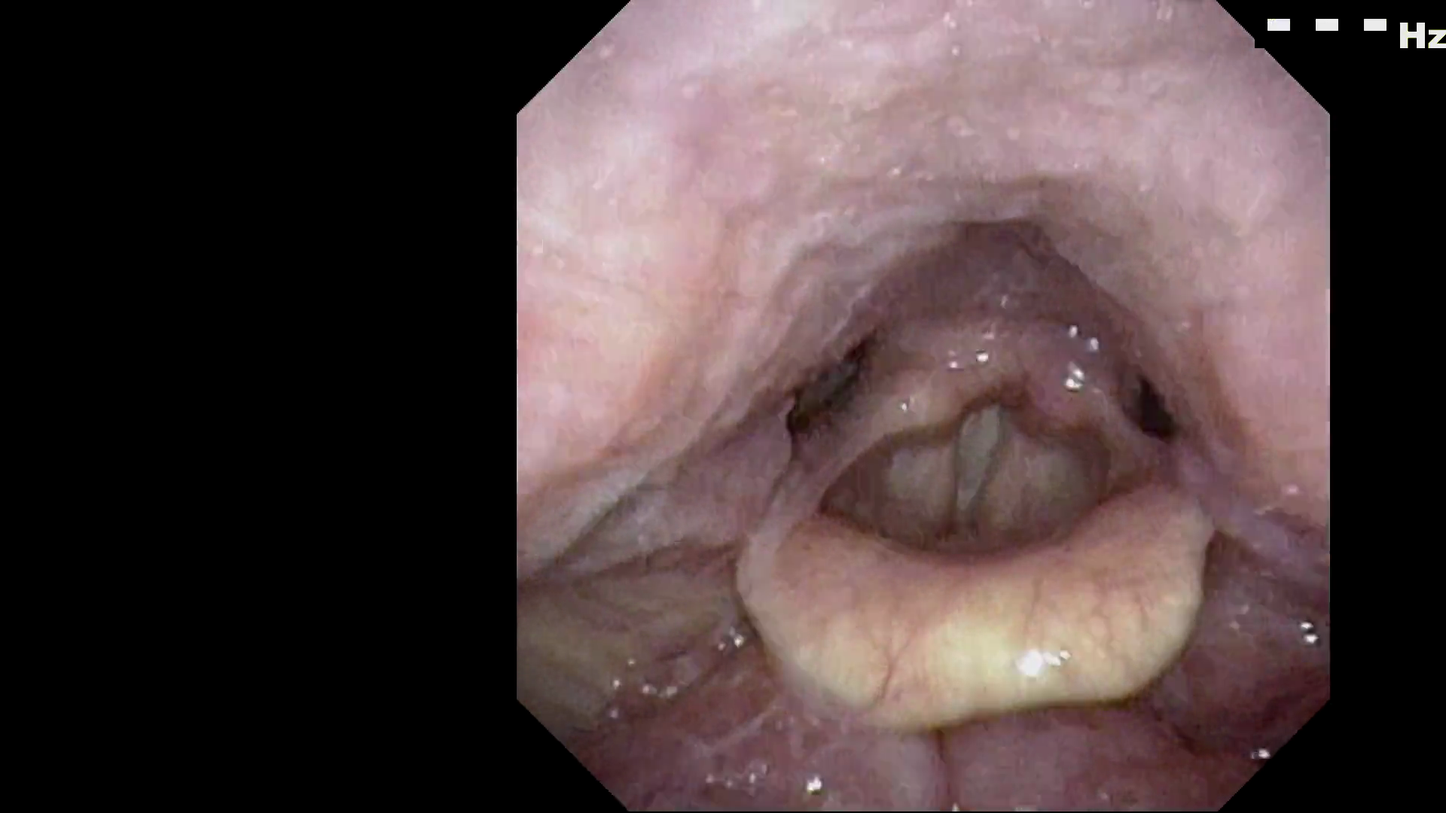epiglottis: (675, 463, 1281, 736)
trachea: (896, 362, 1052, 540)
